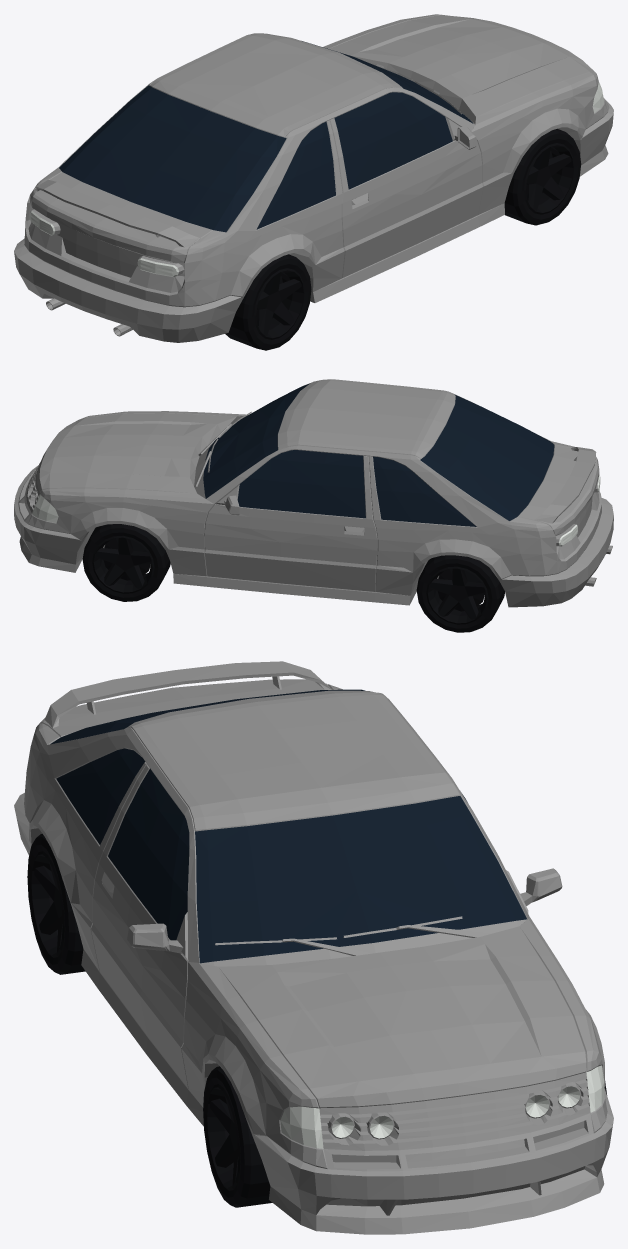
Rendered from coupe.obj.
The picture shows the model from 3 angles, top to bottom: view 1: azimuth 30°, elevation 25°; view 2: azimuth 150°, elevation 25°; view 3: azimuth 270°, elevation 25°; orthographic projection. The views are drawn at different scales.
Parts seen in each view (by area): view 1: coupe-body, wheel_f; view 2: coupe-body, wheel_f; view 3: coupe-body, wheel_f.
Part boxes in pixels (x1,y1,x2,y2): coupe-body: (14,14,613,342); wheel_f: (225,128,581,350); coupe-body: (14,379,613,607); wheel_f: (82,524,504,632); coupe-body: (14,661,613,1234); wheel_f: (27,833,607,1207).
Bounding box in the file's own units: 4.1 × 1.25 × 2.44.
